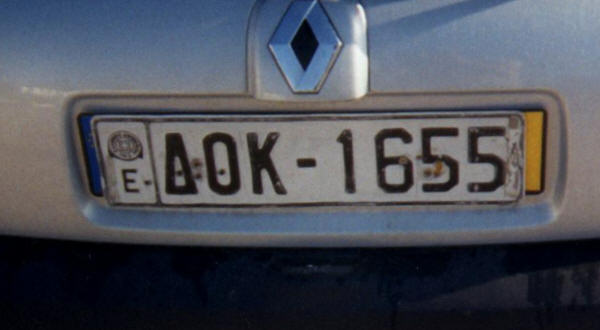license_plate: (88, 108, 523, 206)
